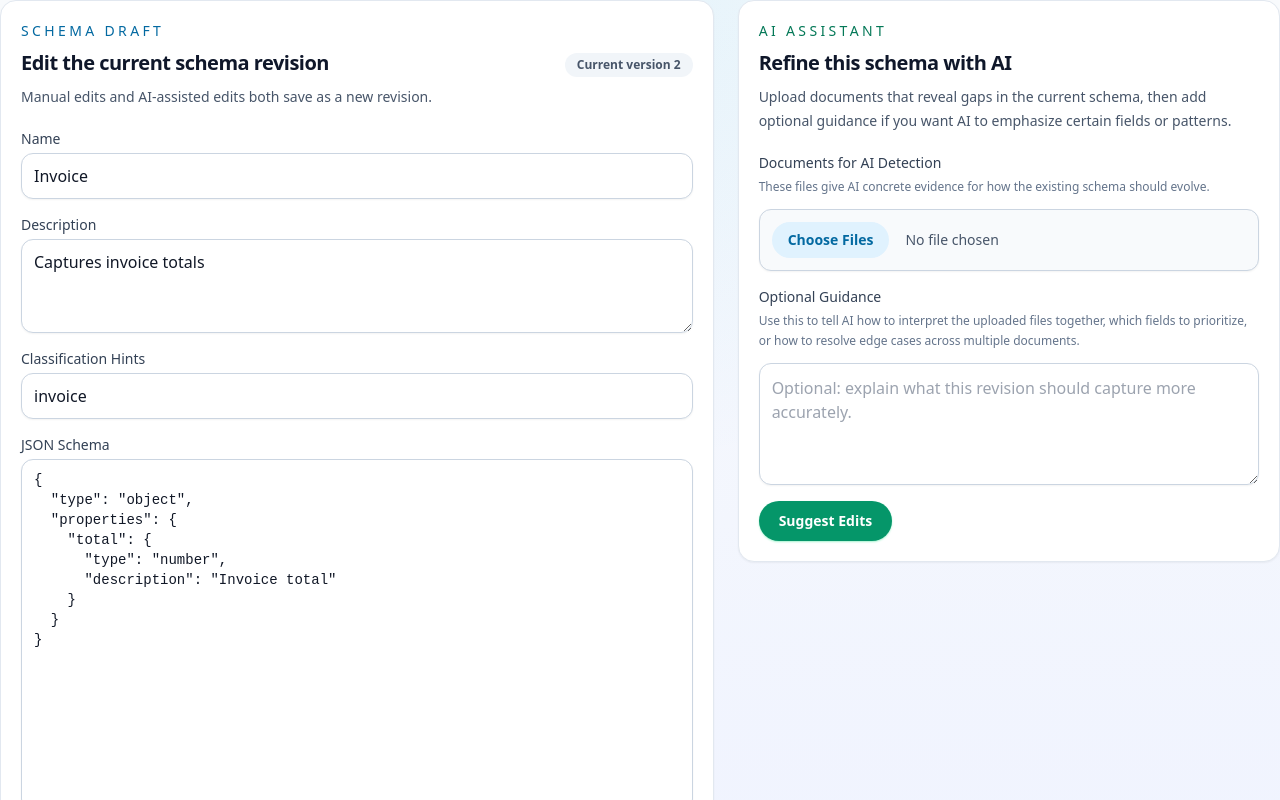
Test: SchemaWorkbench › submits prompt-only edit assist requests and shows a no-change notice
This screenshot has width=1280, height=800.
Replace the text in the text box labelled "Optional Guidance" with "Review the current invoice schema" at (1009, 424), box [759,363,1259,485]
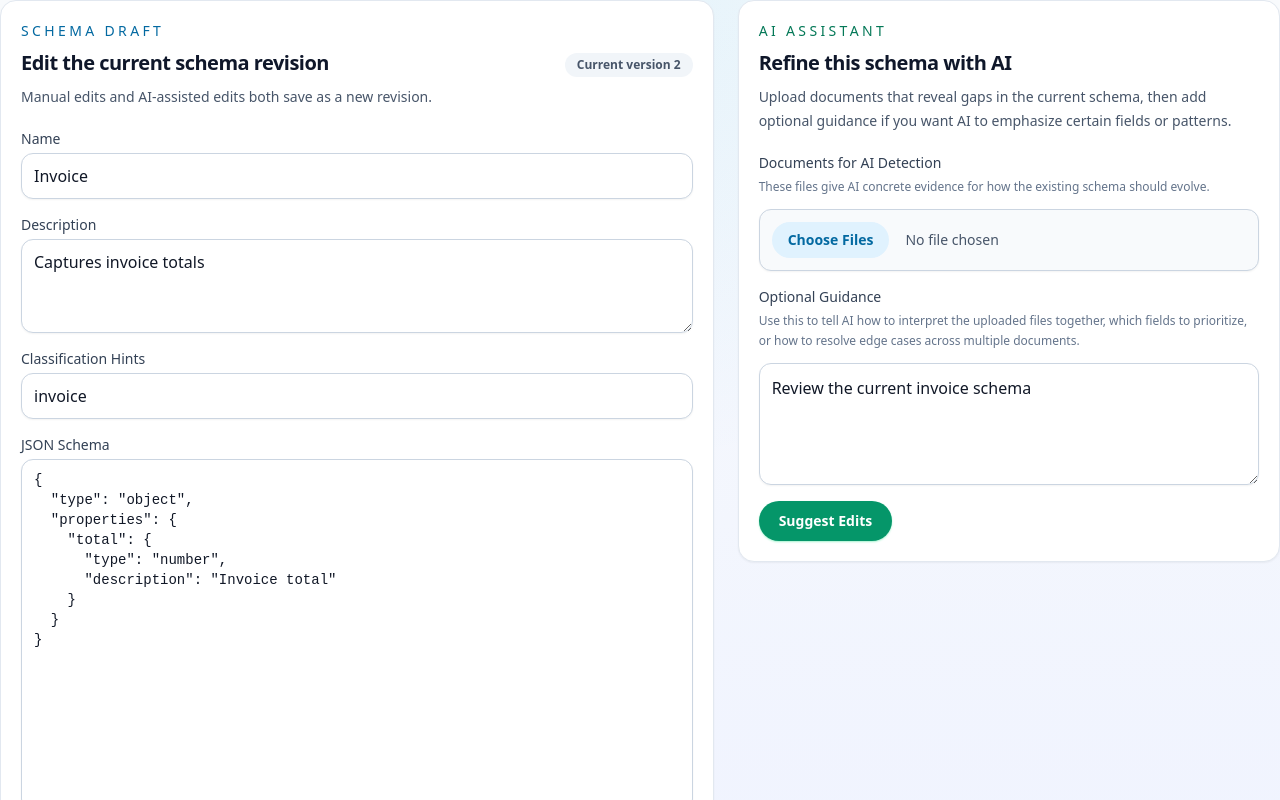
Click the button "Suggest Edits" at (825, 521), box [759,501,892,541]
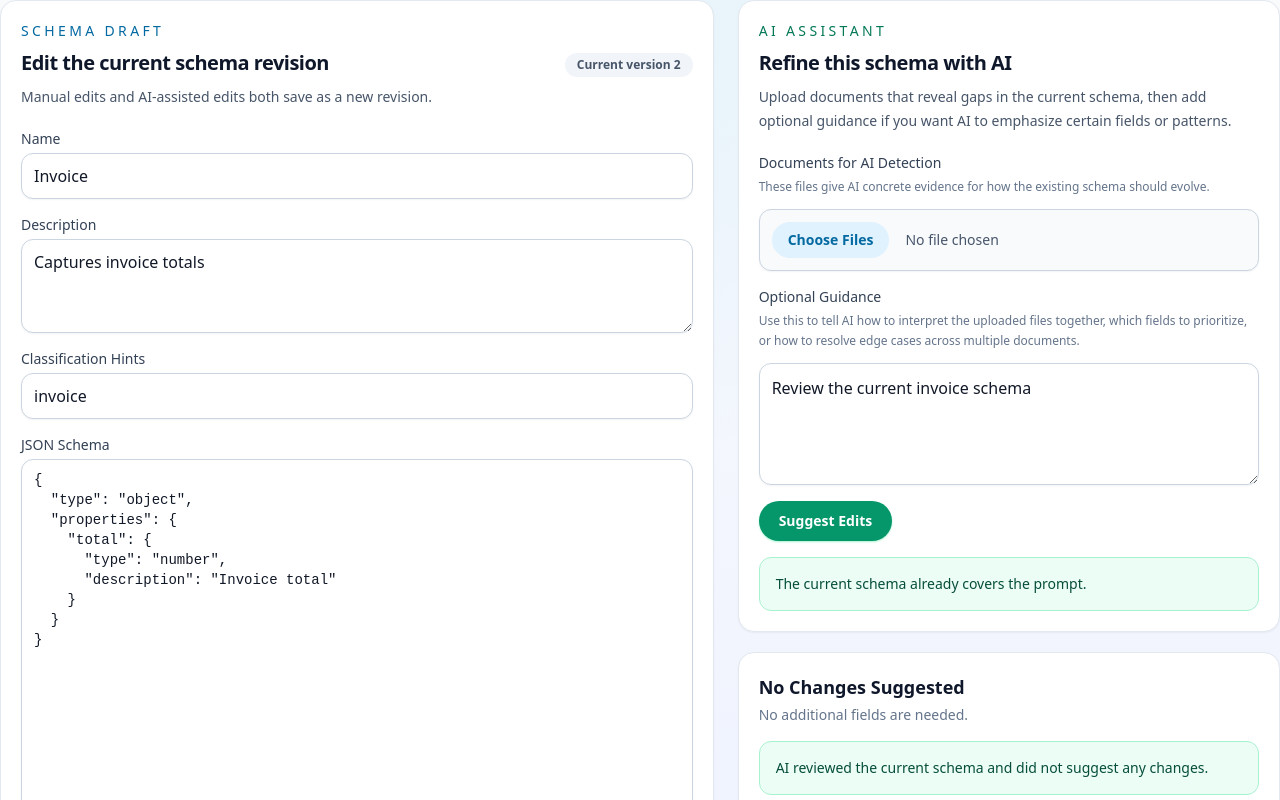
expect the heading "No Changes Suggested" is shown: met, box [759,673,968,701]
expect the text "AI reviewed the current schema and did not suggest any changes." is shown: met, box [759,741,1259,795]
